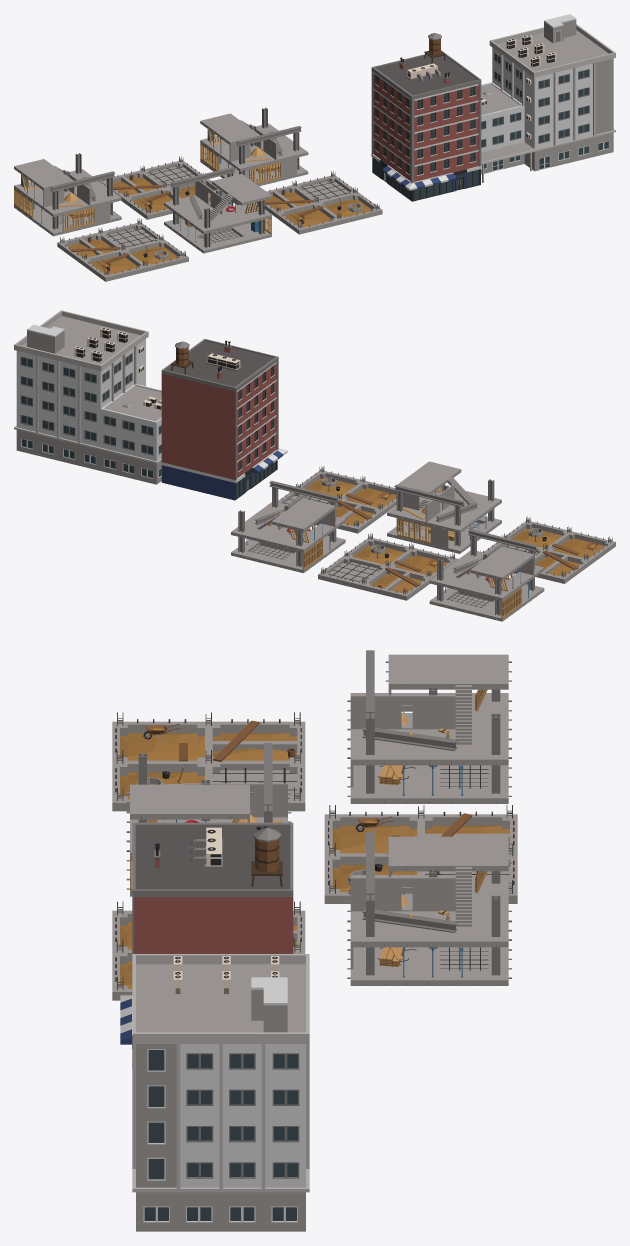
File: construction-buildings.glb
The picture shows the model from 3 angles, top to bottom: view 1: azimuth 30°, elevation 25°; view 2: azimuth 150°, elevation 25°; view 3: azimuth 270°, elevation 25°; orthographic projection. The views are drawn at different scales.
Parts seen in each view (by area): view 1: building-hospital, contruction-large-base (×3), building-block-5floor-corner, contruction-small-base (×3), contruction-large-props (×3), contruction-small-props (×3); view 2: building-hospital, contruction-large-base (×3), building-block-5floor-corner, contruction-small-base (×3), contruction-large-props (×3), contruction-small-props (×3); view 3: contruction-large-base (×3), building-hospital, contruction-small-base (×3), building-block-5floor-corner, contruction-large-props (×2), contruction-small-props (×2).
Boxes of the visible parts, x1,y1,x2,y2 form: building-hospital: [481, 14, 615, 182]; contruction-large-base (×3): [14, 107, 308, 253]; building-block-5floor-corner: [371, 33, 481, 201]; contruction-small-base (×3): [57, 156, 382, 281]; contruction-large-props (×3): [14, 129, 282, 241]; contruction-small-props (×3): [70, 175, 362, 271]; building-hospital: [14, 310, 161, 484]; contruction-large-base (×3): [231, 461, 544, 621]; building-block-5floor-corner: [161, 339, 287, 500]; contruction-small-base (×3): [278, 466, 615, 600]; contruction-large-props (×3): [246, 486, 528, 618]; contruction-small-props (×3): [322, 477, 597, 587]; contruction-large-base (×3): [126, 650, 511, 985]; building-hospital: [132, 954, 309, 1231]; contruction-small-base (×3): [112, 712, 517, 1000]; building-block-5floor-corner: [120, 822, 293, 1068]; contruction-large-props (×2): [362, 689, 487, 977]; contruction-small-props (×2): [136, 720, 472, 884].
Size of the model in its own units: 98.09 by 23.81 by 33.39.
